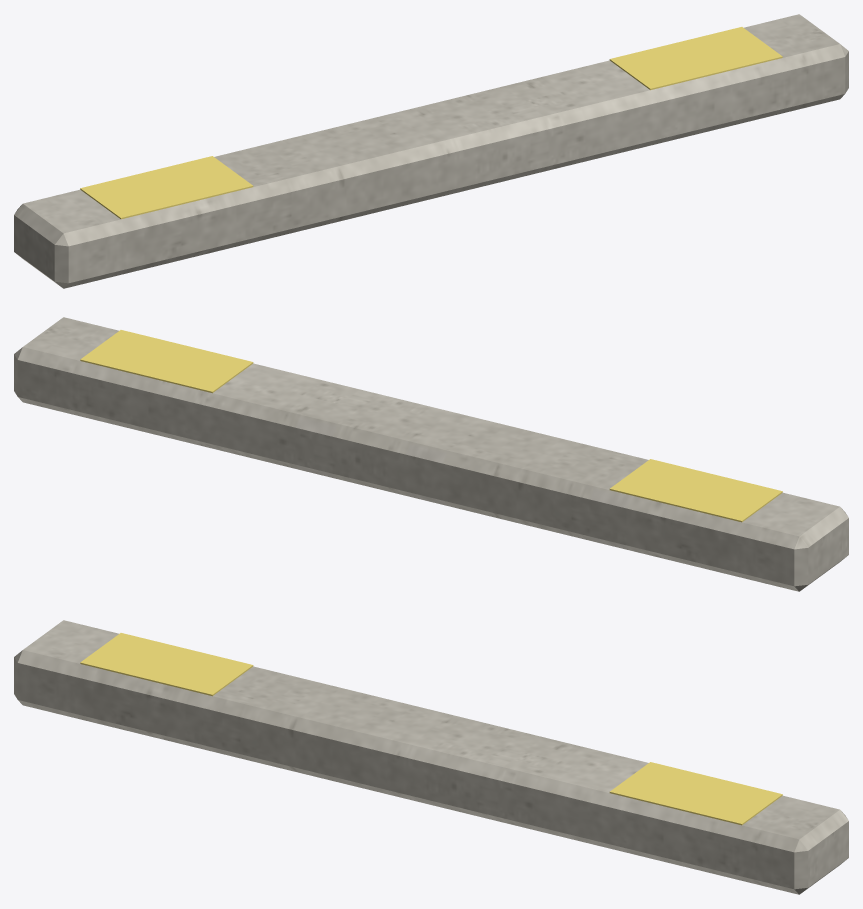
Rendered from wheel_stop.glb.
3 renders of one model, top to bottom at view 1: azimuth 30°, elevation 25°; view 2: azimuth 150°, elevation 25°; view 3: azimuth 330°, elevation 25°, orthographic.
Visible parts, largest first — view 1: wheel_stop_concrete, wheel_stop_paint_y; view 2: wheel_stop_concrete, wheel_stop_paint_y; view 3: wheel_stop_concrete, wheel_stop_paint_y.
Boxes of the visible parts, x1,y1,x2,y2 form: wheel_stop_concrete: [14, 14, 848, 288]; wheel_stop_paint_y: [80, 27, 782, 219]; wheel_stop_concrete: [14, 317, 848, 591]; wheel_stop_paint_y: [80, 330, 782, 522]; wheel_stop_concrete: [14, 620, 848, 894]; wheel_stop_paint_y: [80, 633, 782, 825].
Bounding box in the file's own units: 1.8 × 0.123 × 0.2.
2 materials, 1 textured.
